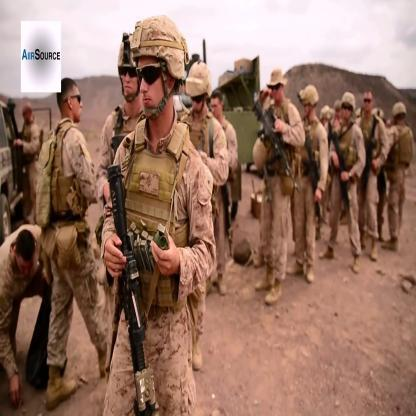Grenade: (154, 223, 170, 251)
Gun: (108, 163, 157, 416), (251, 98, 297, 189), (331, 132, 352, 209), (305, 136, 322, 225), (363, 115, 380, 189)
